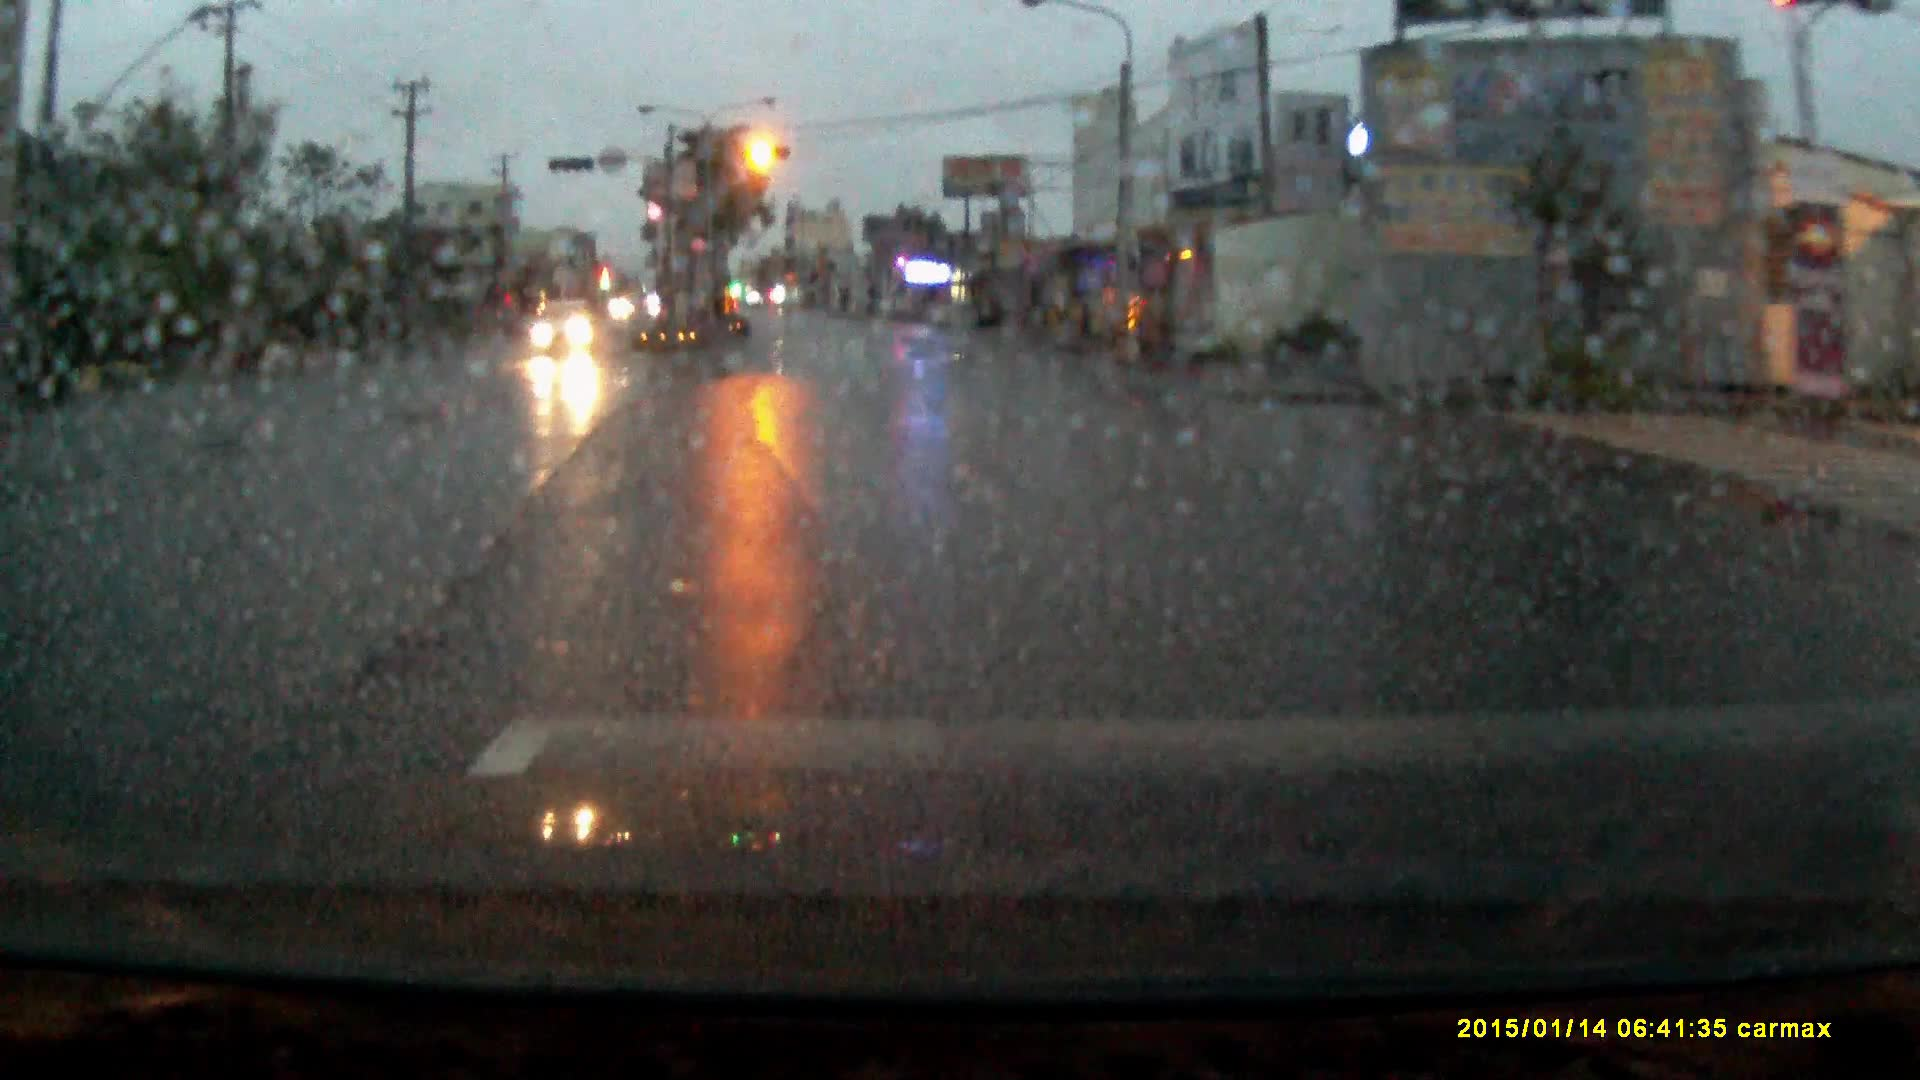vehicle: (529, 303, 605, 363)
